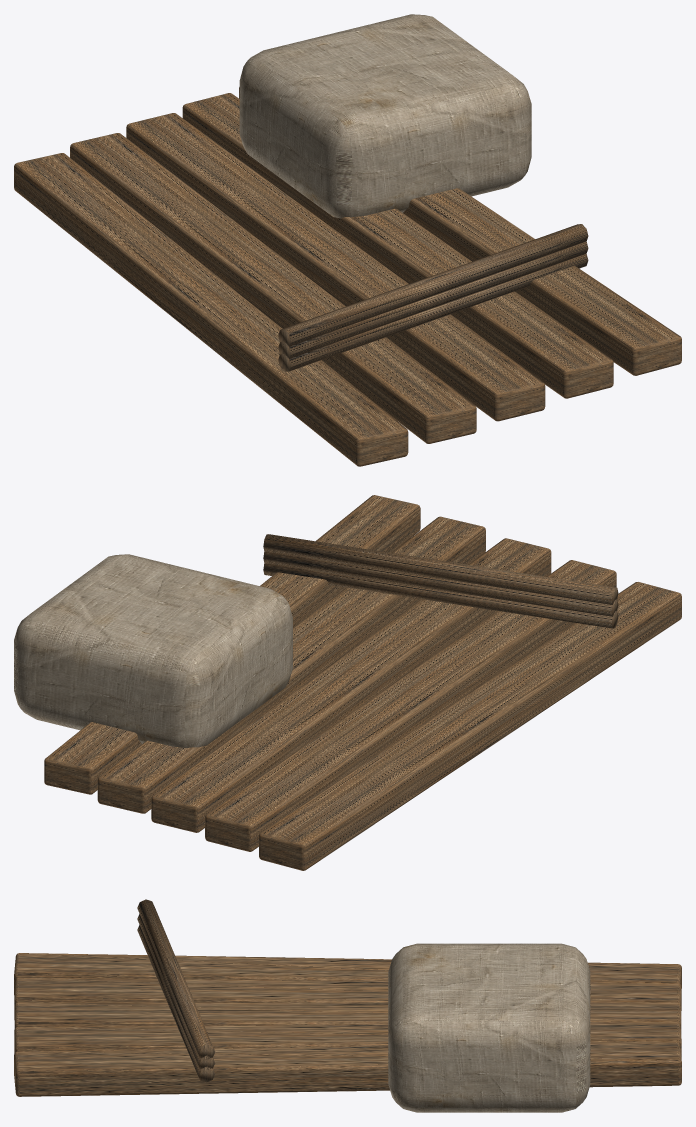
The model's file is bed_materials.glb.
3 renders of one model, top to bottom at view 1: azimuth 30°, elevation 25°; view 2: azimuth 150°, elevation 25°; view 3: azimuth 270°, elevation 25°, orthographic. The views are drawn at different scales.
Parts seen in each view (by area): view 1: bed_materials_mesh; view 2: bed_materials_mesh; view 3: bed_materials_mesh.
Part boxes in pixels (left/top/right/bottom): bed_materials_mesh: left=14, top=14, right=681, bottom=466; bed_materials_mesh: left=14, top=495, right=681, bottom=870; bed_materials_mesh: left=14, top=899, right=681, bottom=1112.
Bounding box in the file's own units: 1.01 × 0.345 × 1.65.
Materials: 3 (3 with a texture image).
